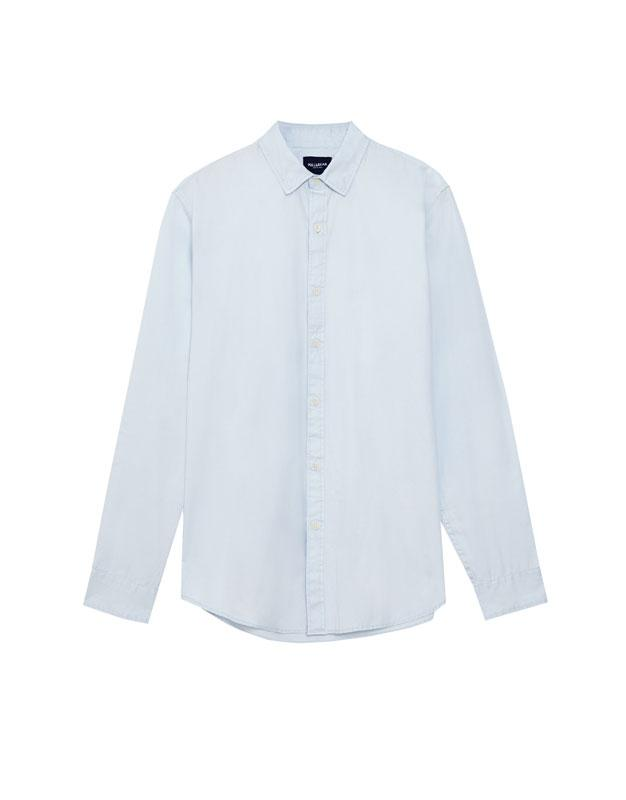teeshirt: (69, 117, 553, 637)
